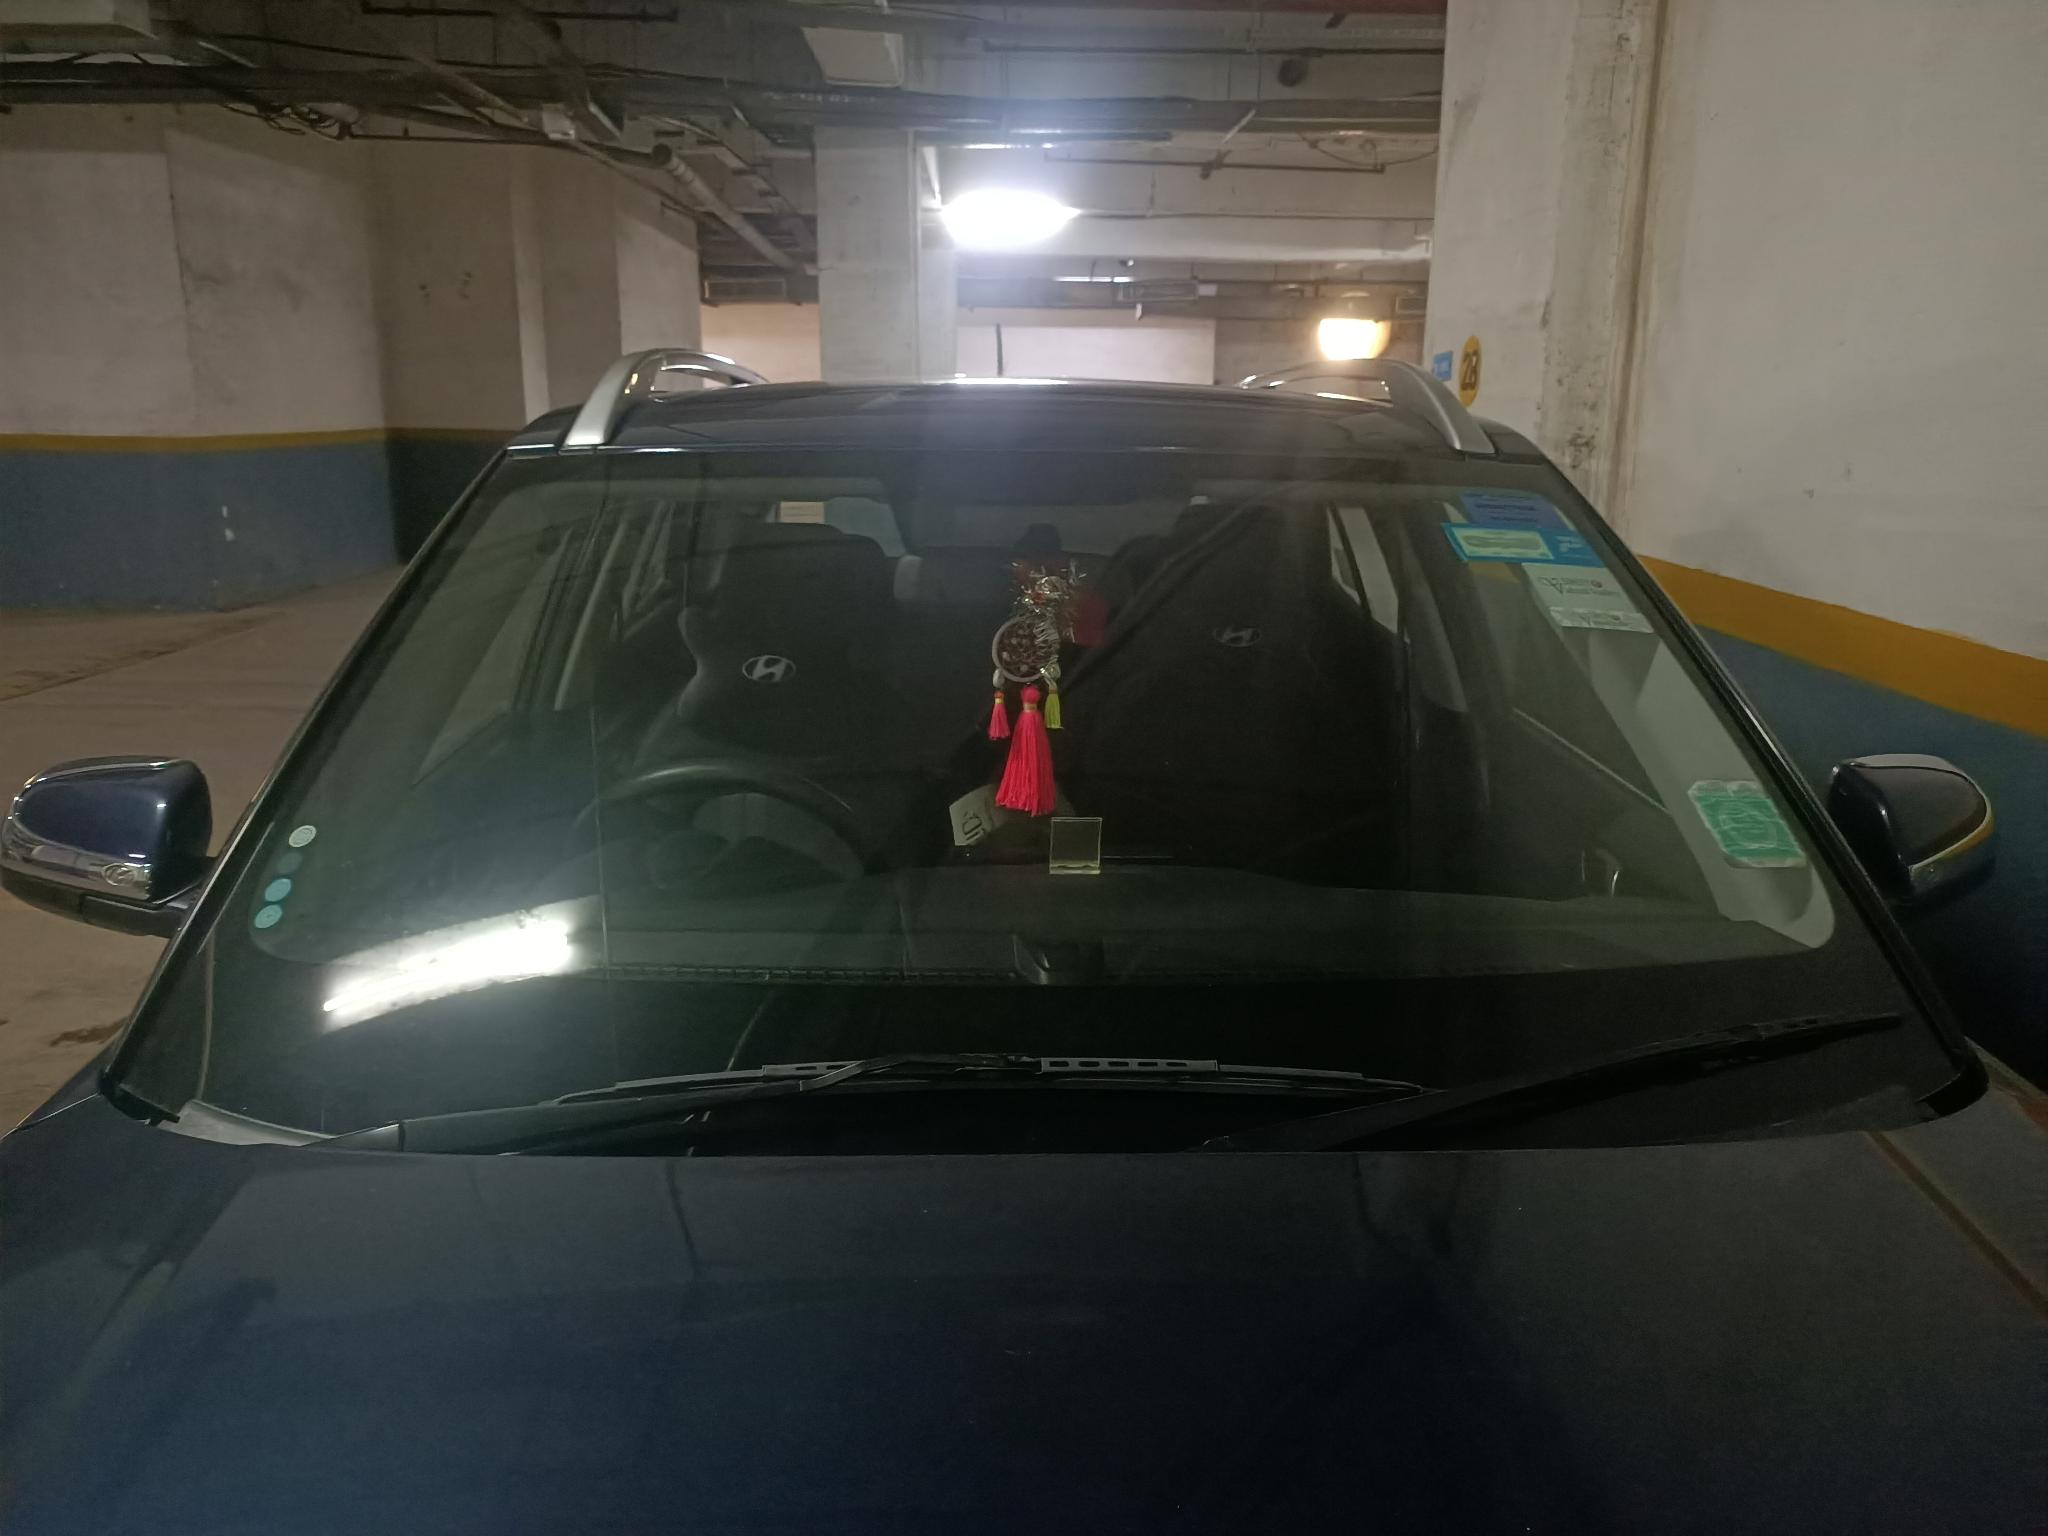FastTag: (1430, 518, 1553, 565)
not a FastTag: (229, 815, 340, 949), (1687, 765, 1809, 881), (1517, 563, 1671, 650), (1453, 484, 1563, 526)
